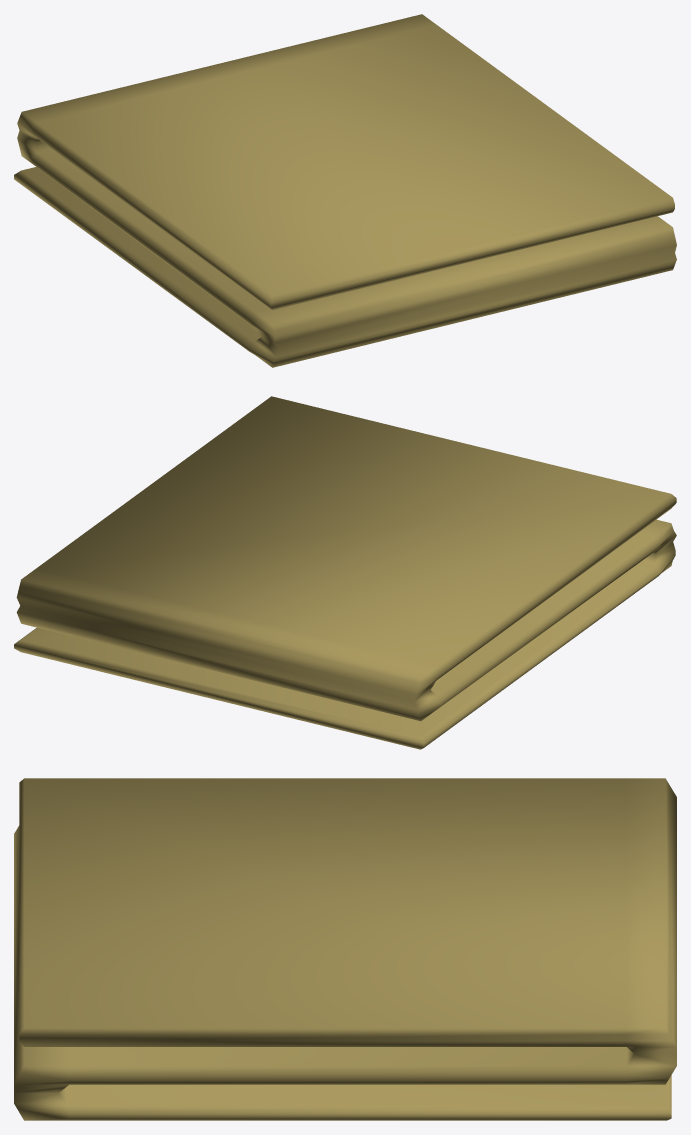
File: cloth unwrapped.fbx
The picture shows the model from 3 angles, top to bottom: view 1: azimuth 30°, elevation 25°; view 2: azimuth 150°, elevation 25°; view 3: azimuth 270°, elevation 25°; orthographic projection. The views are drawn at different scales.
Parts seen in each view (by area): view 1: Box001; view 2: Box001; view 3: Box001.
Part boxes in pixels (bbox=[...]): Box001: bbox=[14, 14, 676, 367]; Box001: bbox=[14, 396, 676, 749]; Box001: bbox=[14, 778, 676, 1120].
Bounding box in the file's own units: 15.71 × 2.64 × 17.12.
